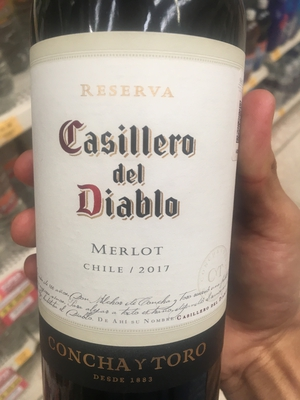casillero del diablo merlot: (23, 5, 261, 400)
